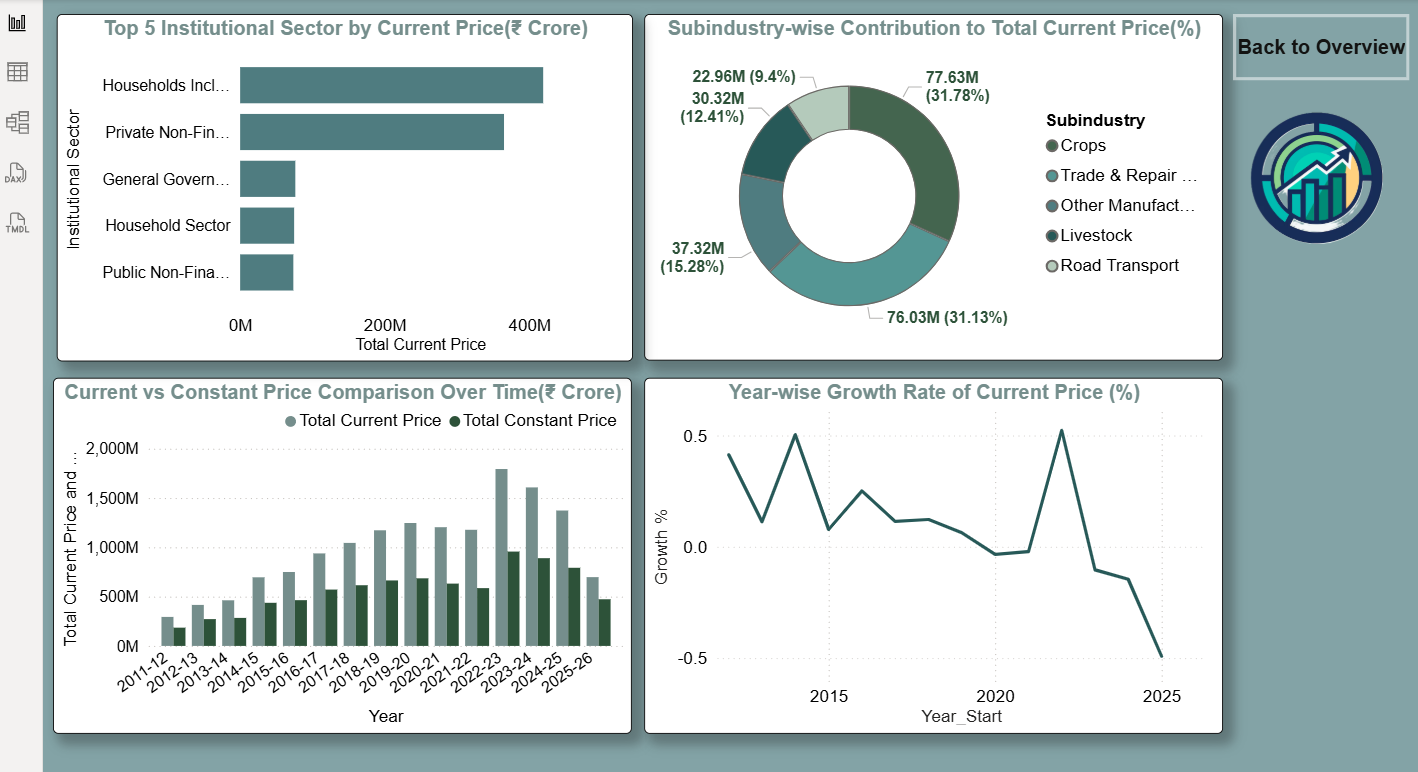

Layout of this report page (visuals, bound fields, positions):
{"tool":"powerbi","page":{"name":"Detailed Analysis","canvas":[1280,720],"ordinal":1},"visuals":[{"type":"clusteredColumnChart","title":"Current vs Constant Price Comparison Over Time(₹ Crore)","fields":{"Category":["Annually_Quarterly_Data.Year"],"Y":["Annually_Quarterly_Data.Total Current Price","Annually_Quarterly_Data.Total Constant Price"]},"box":[174.9,406.6,534.5,305.2],"z":0},{"type":"donutChart","title":"Subindustry-wise Contribution to Total Current Price(%)","fields":{"Category":["Annually_Quarterly_Data.Subindustry"],"Y":["Annually_Quarterly_Data.Total Current Price"]},"box":[728.7,90.5,534.5,305.2],"z":1000},{"type":"lineChart","title":"Year-wise Growth Rate of Current Price (%)","fields":{"Category":["Annually_Quarterly_Data.Year_Start"],"Y":["Annually_Quarterly_Data.Growth %"]},"box":[728.7,406.6,534.5,305.2],"z":2000},{"type":"clusteredBarChart","title":"Top 5 Institutional Sector  by Current Price(₹ Crore)","fields":{"Category":["Annually_Quarterly_Data.Institutional Sector"],"Y":["Annually_Quarterly_Data.Total Current Price"]},"box":[174.9,90.5,534.5,305.2],"z":3000},{"type":"textbox","box":[174.9,9.7,1088.2,68.8],"z":3500},{"type":"actionButton","box":[1062.8,15.1,191.9,58.1],"z":4000},{"type":"image","box":[0,0,174.9,181],"z":5000}]}

Visuals, with their boxes on the page's 1280x720 design canvas (x1, y1, x2, y2). These are canvas units, not pixel positions in the 1418x772 screenshot, which may show the page scaled, cropped or inside an application window:
"Current vs Constant Price Comparison Over Time(₹ Crore)" clusteredColumnChart: pyautogui.locateOnScreen(175, 407, 709, 712)
"Subindustry-wise Contribution to Total Current Price(%)" donutChart: pyautogui.locateOnScreen(729, 90, 1263, 396)
"Year-wise Growth Rate of Current Price (%)" lineChart: pyautogui.locateOnScreen(729, 407, 1263, 712)
"Top 5 Institutional Sector  by Current Price(₹ Crore)" clusteredBarChart: pyautogui.locateOnScreen(175, 90, 709, 396)
textbox: pyautogui.locateOnScreen(175, 10, 1263, 78)
actionButton: pyautogui.locateOnScreen(1063, 15, 1255, 73)
image: pyautogui.locateOnScreen(0, 0, 175, 181)
